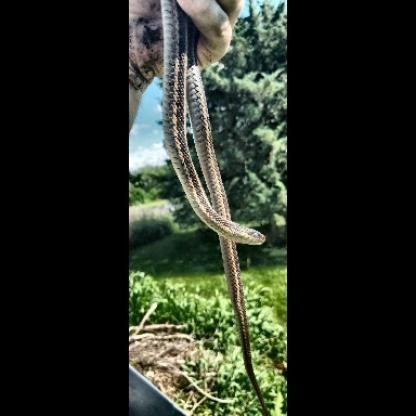Snake: (152, 0, 272, 416), (197, 214, 276, 250)
